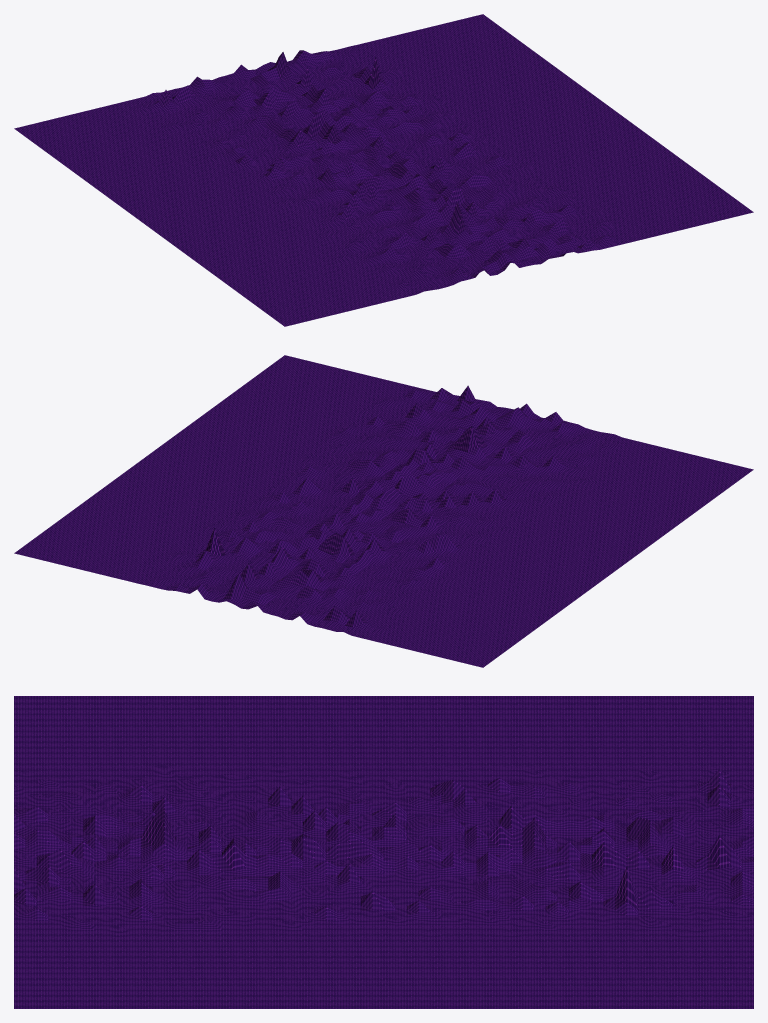
Rendered from mountains.glb.
3 views of the same model, one above another, from view 1: azimuth 30°, elevation 25°; view 2: azimuth 150°, elevation 25°; view 3: azimuth 270°, elevation 25° (orthographic). The views are drawn at different scales.
Visible parts, largest first — view 1: Plane; view 2: Plane; view 3: Plane.
Part boxes in pixels (x1=…): Plane: x1=14, y1=14, x2=753, y2=326; Plane: x1=14, y1=355, x2=753, y2=667; Plane: x1=14, y1=696, x2=753, y2=1008.
Bounding box in the file's own units: 5 × 0.3017 × 5.
